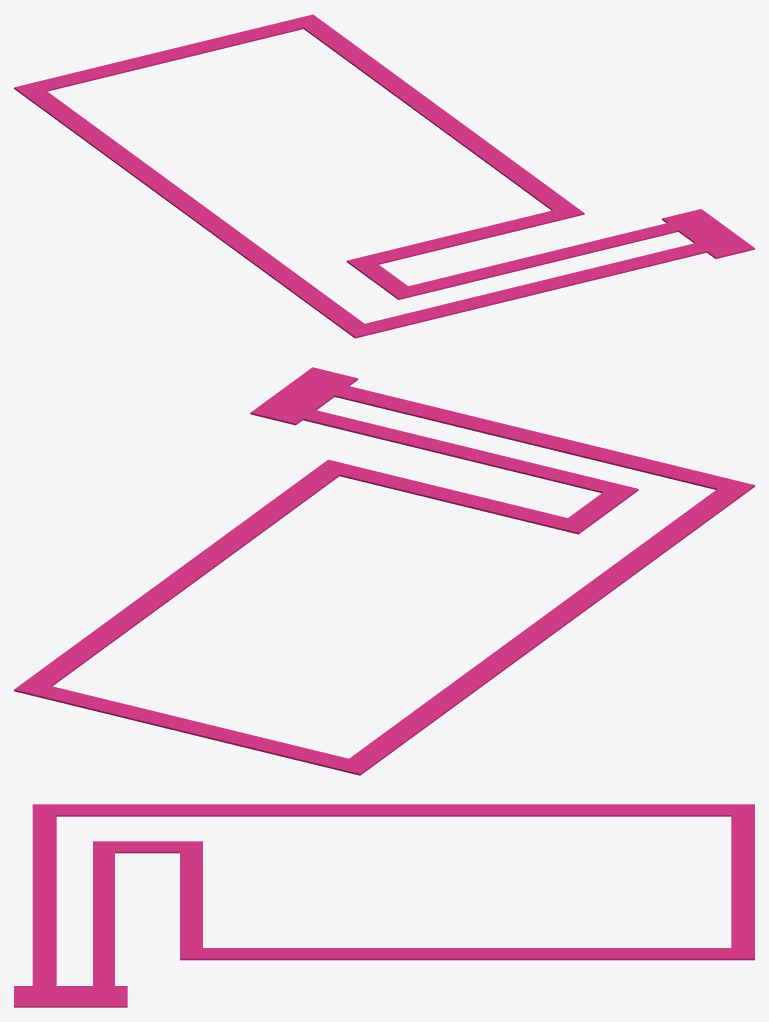
The picture shows the model from 3 angles, top to bottom: view 1: azimuth 30°, elevation 25°; view 2: azimuth 150°, elevation 25°; view 3: azimuth 270°, elevation 25°; orthographic projection. The views are drawn at different scales.
Visible parts, largest first — view 1: path; view 2: path; view 3: path.
Part boxes in pixels (x1,y1,x2,y2): path: [14, 14, 754, 338]; path: [14, 367, 754, 775]; path: [14, 804, 754, 1007].
Bounding box in the file's own units: 2.76 × 4.27 × 0.01.
